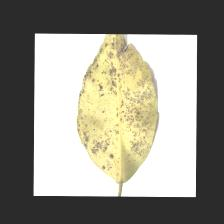canker: (74, 52, 154, 166)
